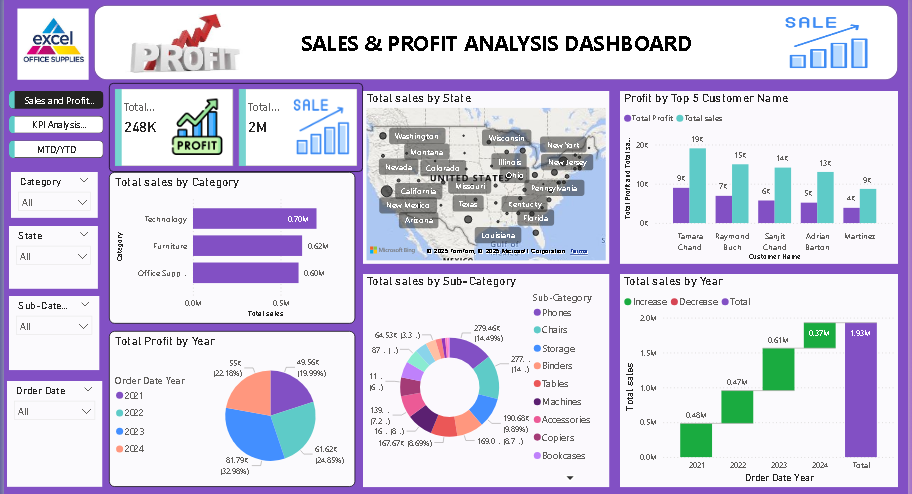

The dashboard page shown, as its layout file describes it:
{"tool":"powerbi","page":{"name":"Sales and Profit Dashboard","canvas":[1280,720],"ordinal":0},"visuals":[{"type":"image","box":[0,17,138.9,110.6],"z":0},{"type":"shape","box":[127.6,17,1139.5,106.3],"z":1000},{"type":"image","box":[158.7,24.1,192.8,93.5],"z":2000},{"type":"image","box":[1101.3,28.3,129,83.6],"z":3000},{"type":"cardVisual","fields":{"Data":["Ssles_Revenue.Total Profit","Ssles_Revenue.Total sales"]},"box":[148.8,127.6,360,126.1],"z":4000},{"type":"clusteredBarChart","fields":{"Category":["Ssles_Revenue.Category"],"Y":["Sales_Revenue.Total sales"]},"box":[148.8,253.7,348.7,215.4],"z":5000},{"type":"pieChart","fields":{"Y":["Sales_Revenue.Total Profit"],"Category":["Sales_Revenue.Order Date.Variation.Date Hierarchy.Year","Sales_Revenue.Order Date.Variation.Date Hierarchy.Quarter","Sales_Revenue.Order Date.Variation.Date Hierarchy.Month","Sales_Revenue.Order Date.Variation.Date Hierarchy.Day"]},"box":[148.8,479.1,348.7,221.1],"z":6000},{"type":"pageNavigator","box":[7.1,138.9,134.6,97.8],"z":7000},{"type":"map","fields":{"Category":["Sales_Revenue.State"],"Size":["Sales_Revenue.Total sales"]},"box":[508.8,138.9,348.7,245.2],"z":8000},{"type":"clusteredColumnChart","title":"Profit by Top 5 Customer Name","fields":{"Category":["Sales_Revenue.Customer Name"],"Y":["Sales_Revenue.Total Profit","Sales_Revenue.Total sales"]},"box":[873.1,138.9,394,245.2],"z":9000},{"type":"waterfallChart","fields":{"Y":["Sales_Revenue.Total sales"],"Category":["Sales_Revenue.Order Date.Variation.Date Hierarchy.Year","Sales_Revenue.Order Date.Variation.Date Hierarchy.Quarter","Sales_Revenue.Order Date.Variation.Date Hierarchy.Month","Sales_Revenue.Order Date.Variation.Date Hierarchy.Day"]},"box":[873.1,398.3,394,301.9],"z":10000},{"type":"slicer","fields":{"Values":["Sales_Revenue.Category"]},"box":[9.9,253.7,123.3,65.2],"z":11000},{"type":"slicer","fields":{"Values":["Sales_Revenue.State"]},"box":[7.1,330.2,126.1,89.3],"z":12000},{"type":"slicer","fields":{"Values":["Sales_Revenue.Sub-Category"]},"box":[7.1,429.4,127.6,104.9],"z":13000},{"type":"slicer","fields":{"Values":["Sales_Revenue.Order Date.Variation.Date Hierarchy.Month"]},"box":[4.3,549.9,134.6,150.2],"z":14000},{"type":"donutChart","fields":{"Y":["Sales_Revenue.Total sales"],"Category":["Sales_Revenue.Sub-Category"]},"box":[508.8,398.3,348.7,301.9],"z":15000}]}

Visuals, with their boxes in screenshot pixels (x1, y1, x2, y2):
image: box=[5, 5, 102, 82]
shape: box=[94, 5, 894, 79]
image: box=[116, 10, 251, 75]
image: box=[777, 13, 868, 71]
cardVisual - Ssles_Revenue.Total Profit x Ssles_Revenue.Total sales: box=[109, 82, 362, 171]
clusteredBarChart - Ssles_Revenue.Category x Sales_Revenue.Total sales: box=[109, 171, 354, 322]
pieChart - Sales_Revenue.Total Profit x Sales_Revenue.Order Date.Variation.Date Hierarchy.Year: box=[109, 329, 354, 484]
pageNavigator: box=[10, 90, 104, 159]
map - Sales_Revenue.State x Sales_Revenue.Total sales: box=[362, 90, 606, 262]
"Profit by Top 5 Customer Name" clusteredColumnChart: box=[617, 90, 894, 262]
waterfallChart - Sales_Revenue.Total sales x Sales_Revenue.Order Date.Variation.Date Hierarchy.Year: box=[617, 272, 894, 484]
slicer - Sales_Revenue.Category: box=[12, 171, 98, 217]
slicer - Sales_Revenue.State: box=[10, 225, 98, 287]
slicer - Sales_Revenue.Sub-Category: box=[10, 294, 99, 368]
slicer - Sales_Revenue.Order Date.Variation.Date Hierarchy.Month: box=[8, 379, 102, 484]
donutChart - Sales_Revenue.Total sales x Sales_Revenue.Sub-Category: box=[362, 272, 606, 484]
